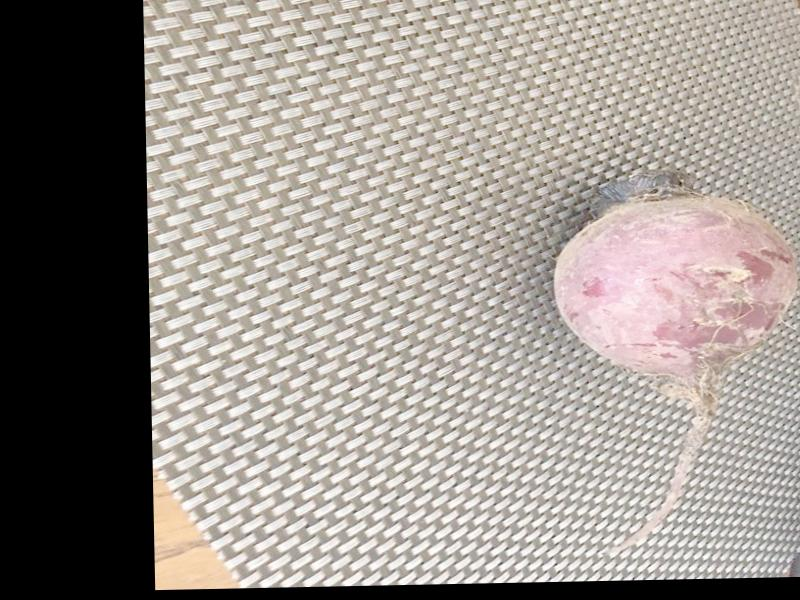Beet: (553, 162, 800, 549)
